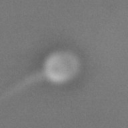normal: (1, 71, 44, 104)
